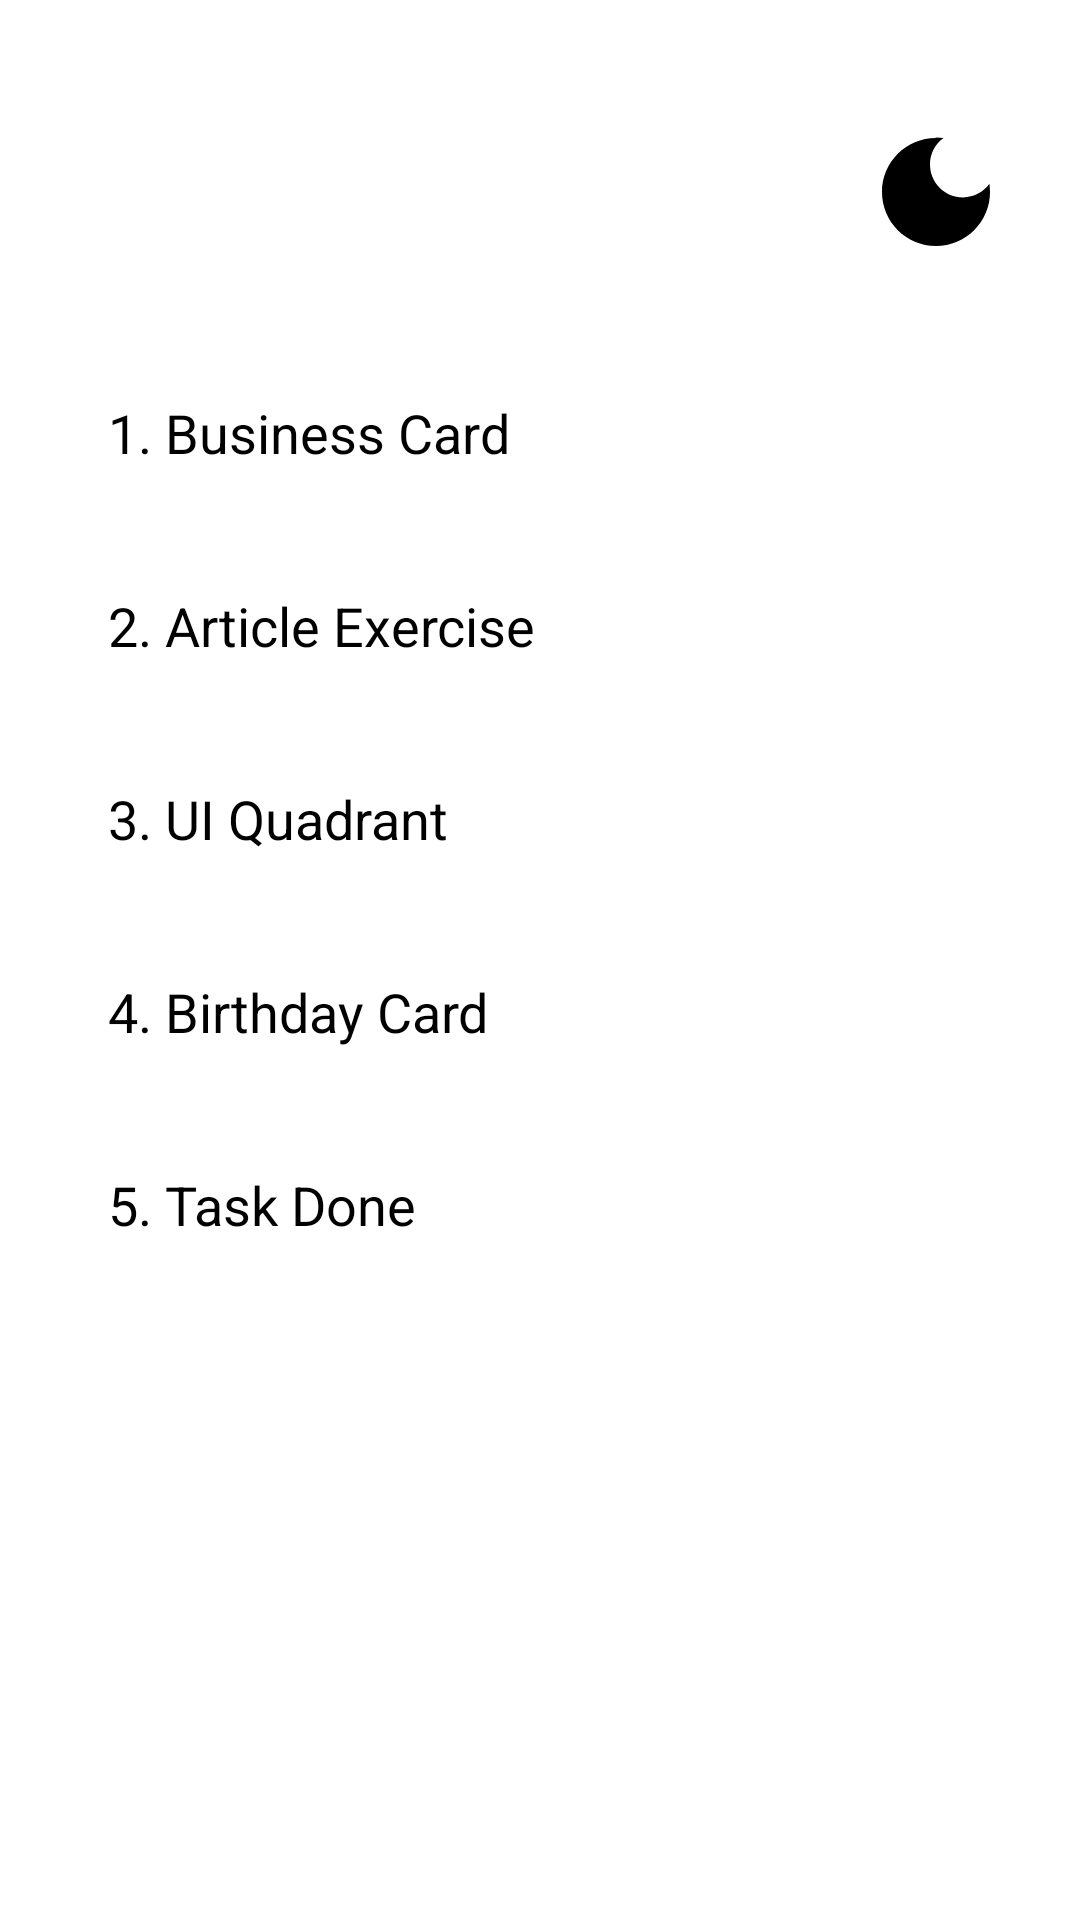

Icons on this 1080×1920 Android screen, each with the point to tap as [x,y]:
Toggle Theme: [936,191]
